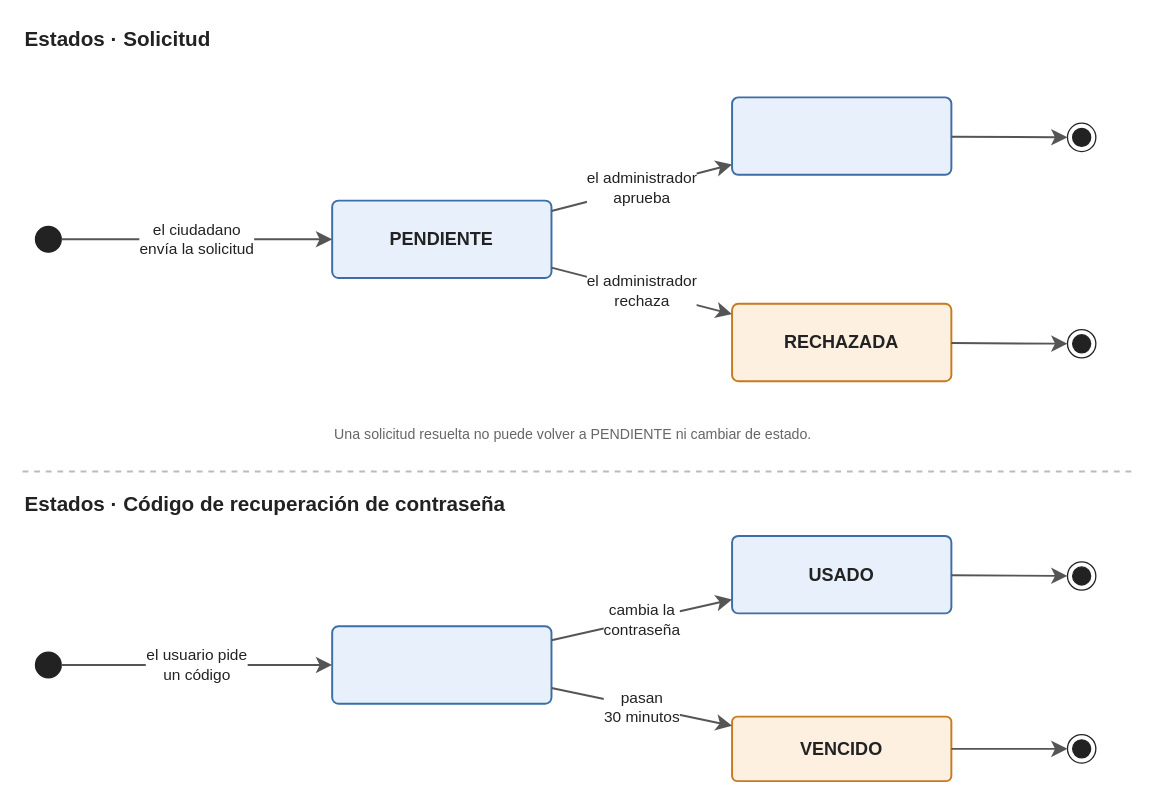
Image size: 1157x804. Some labels were removed from this diagram. The box of each missing label's shape, as (x1, y1, x2, y2) in pixels:
APROBADA: (731, 96, 952, 175)
VIGENTE: (331, 625, 552, 704)
